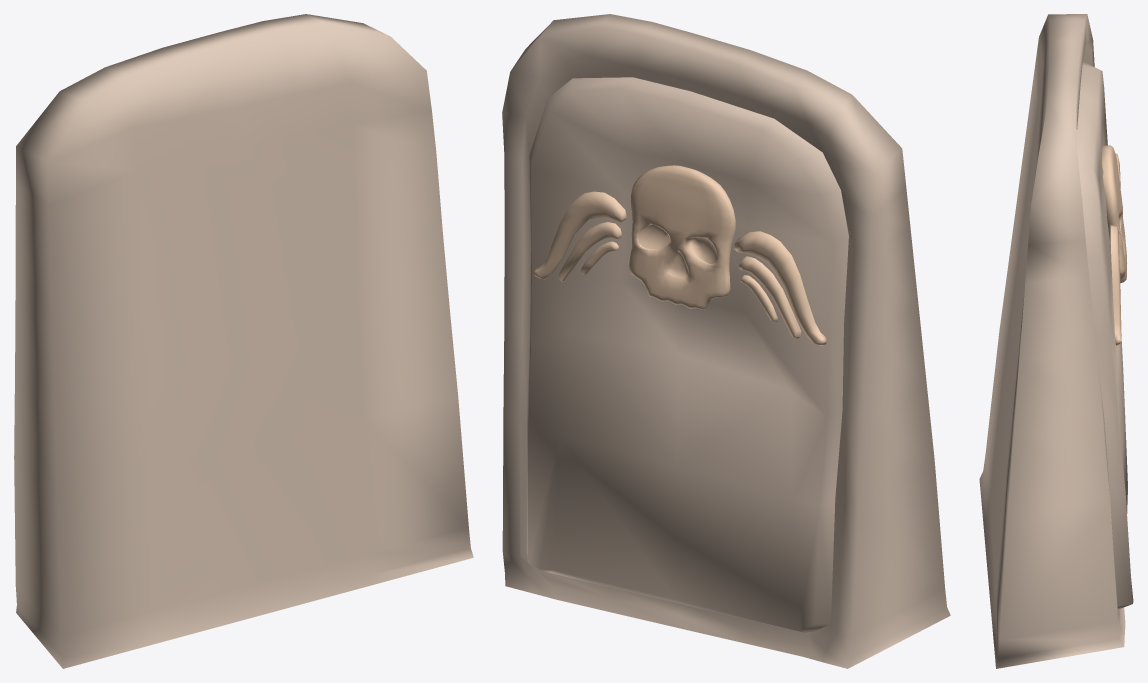
File: DreamGravestone00.fbx
The picture shows the model from 3 angles, left to right: view 1: azimuth 30°, elevation 25°; view 2: azimuth 150°, elevation 25°; view 3: azimuth 270°, elevation 25°; orthographic projection. The views are drawn at different scales.
Parts seen in each view (by area): view 1: gravestone; view 2: gravestone; view 3: gravestone.
Boxes of the visible parts, x1,y1,x2,y2 form: gravestone: [14, 14, 473, 668]; gravestone: [502, 14, 950, 668]; gravestone: [979, 14, 1133, 668].
Bounding box in the file's own units: 2.67 × 3.37 × 0.9062.
